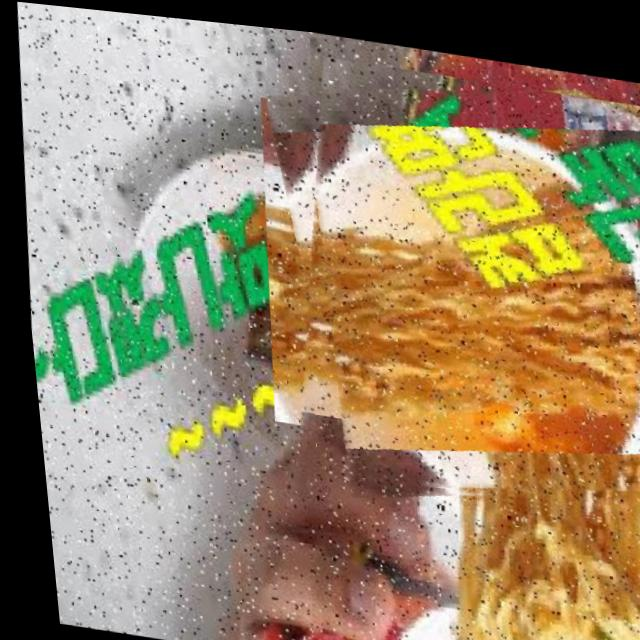Miscellaneous: (257, 41, 640, 519)
